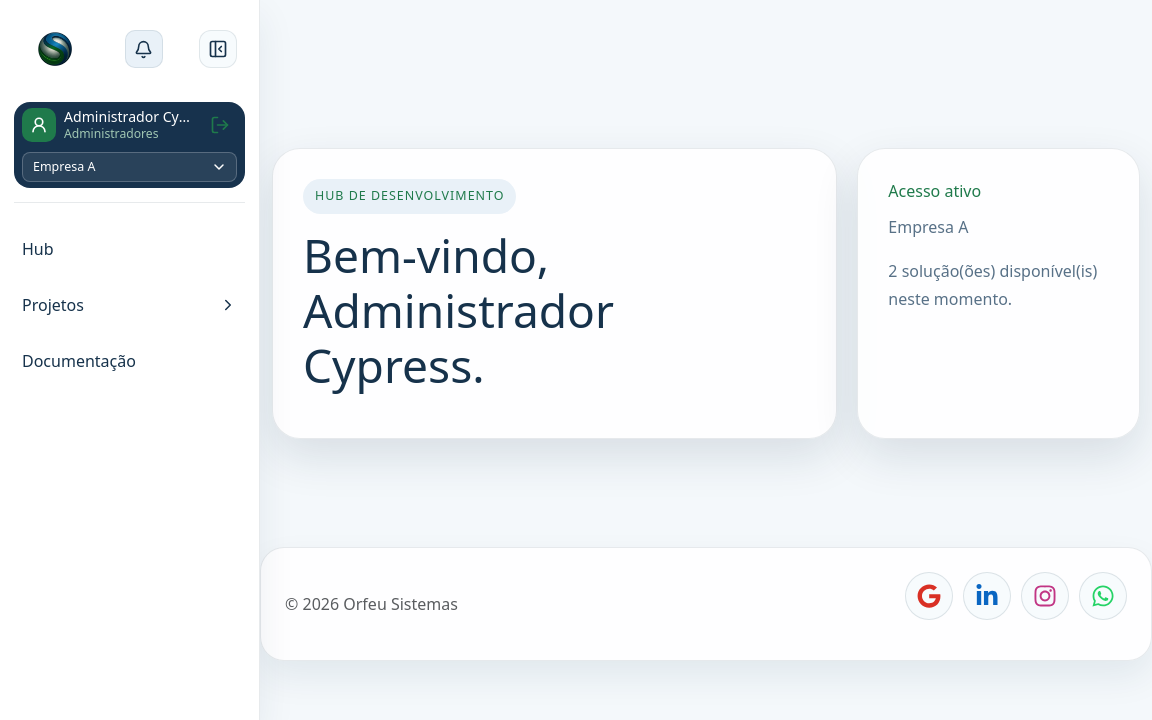
Scenario: navegação principal no navegador › reutiliza a navegação carregada ao abrir outra solução
The width and height of the screenshot is (1152, 720).
Click the link to "/hub/projetos": coordinates (53, 305) x1=22 y1=294 x2=84 y2=316
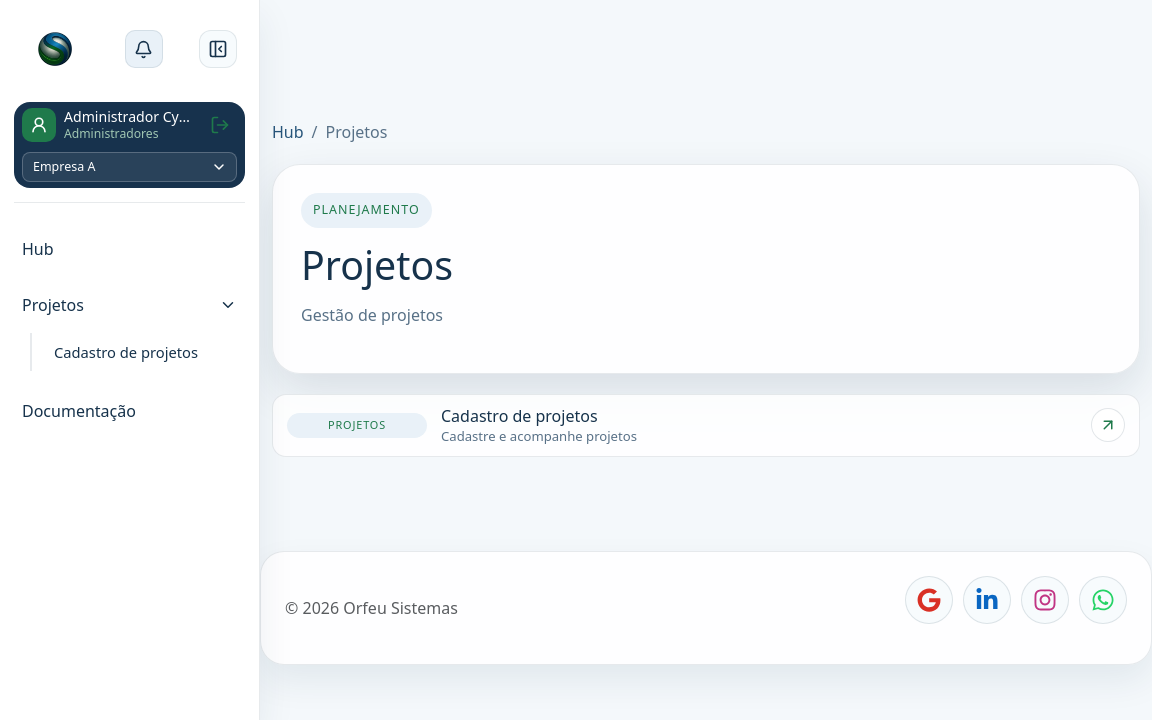
expect the heading "Projetos" is shown: met, box x1=301 y1=238 x2=453 y2=292
